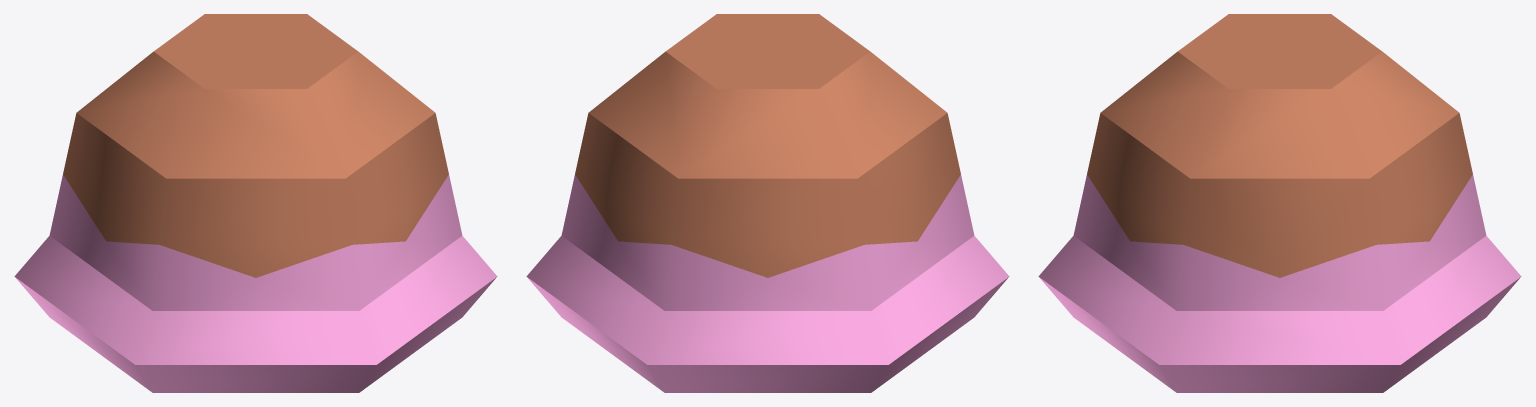
Rendered from iceCreamScoop.GLB.
3 views of the same model, side by side, from view 1: azimuth 30°, elevation 25°; view 2: azimuth 150°, elevation 25°; view 3: azimuth 270°, elevation 25° (orthographic).
Parts seen in each view (by area): view 1: iceCreamScoop; view 2: iceCreamScoop; view 3: iceCreamScoop.
Boxes of the visible parts, x1,y1,x2,y2 form: iceCreamScoop: (14, 14, 497, 392); iceCreamScoop: (526, 14, 1009, 392); iceCreamScoop: (1038, 14, 1521, 392).
Bounding box in the file's own units: 0.2352 × 0.165 × 0.2716.
